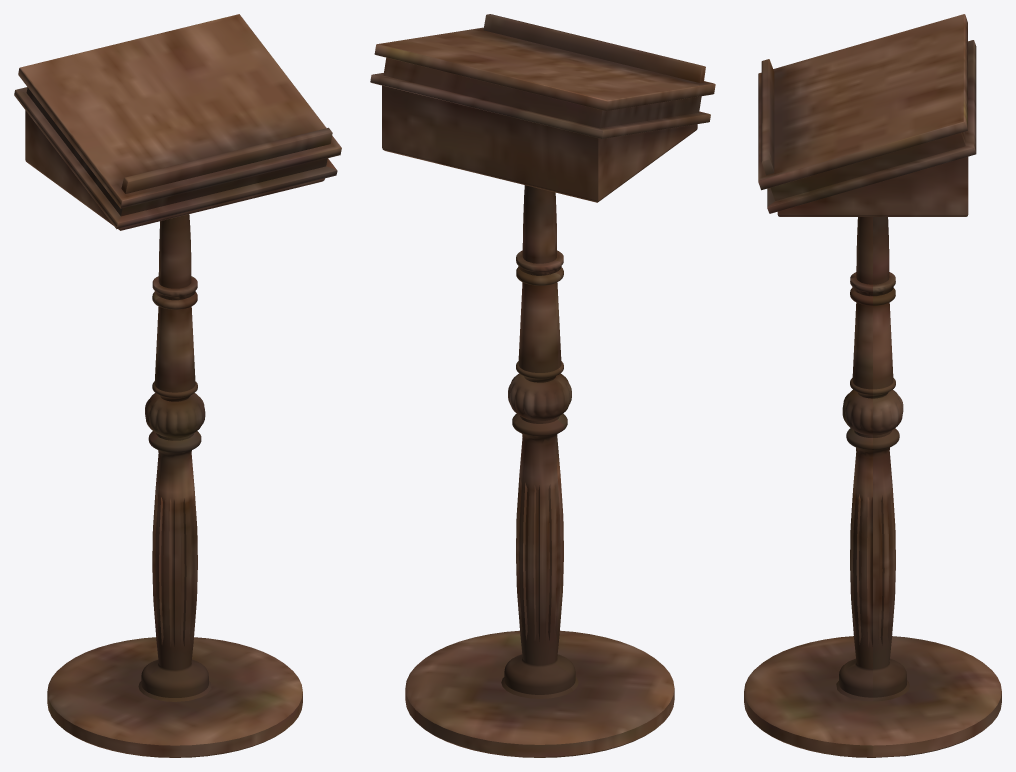
The model's file is lectern.glb.
3 renders of one model, left to right at view 1: azimuth 30°, elevation 25°; view 2: azimuth 150°, elevation 25°; view 3: azimuth 270°, elevation 25°, orthographic. The views are drawn at different scales.
Bounding box in the file's own units: 0.5601 × 1.53 × 0.5601.
Materials: 1 (1 with a texture image).
